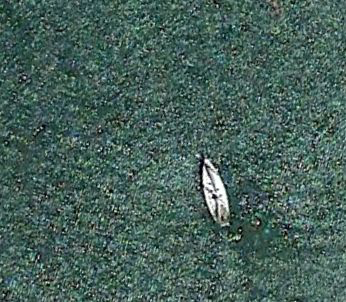boat: (199, 158, 233, 229)
